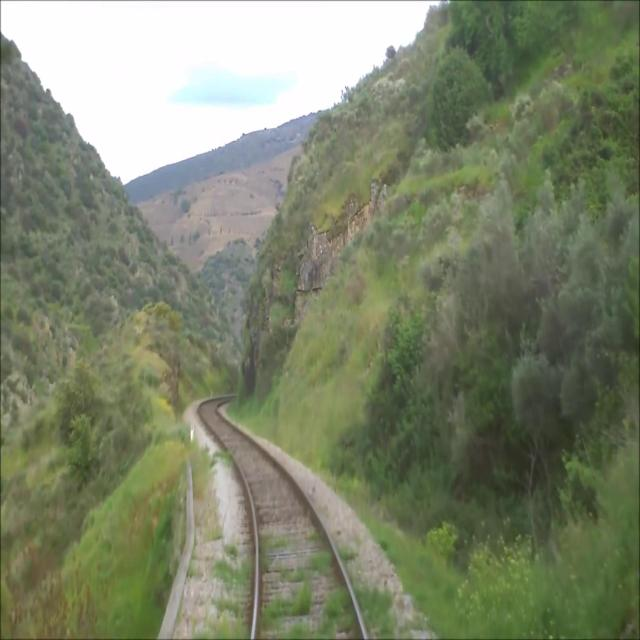rail-track: (201, 402, 363, 639)
